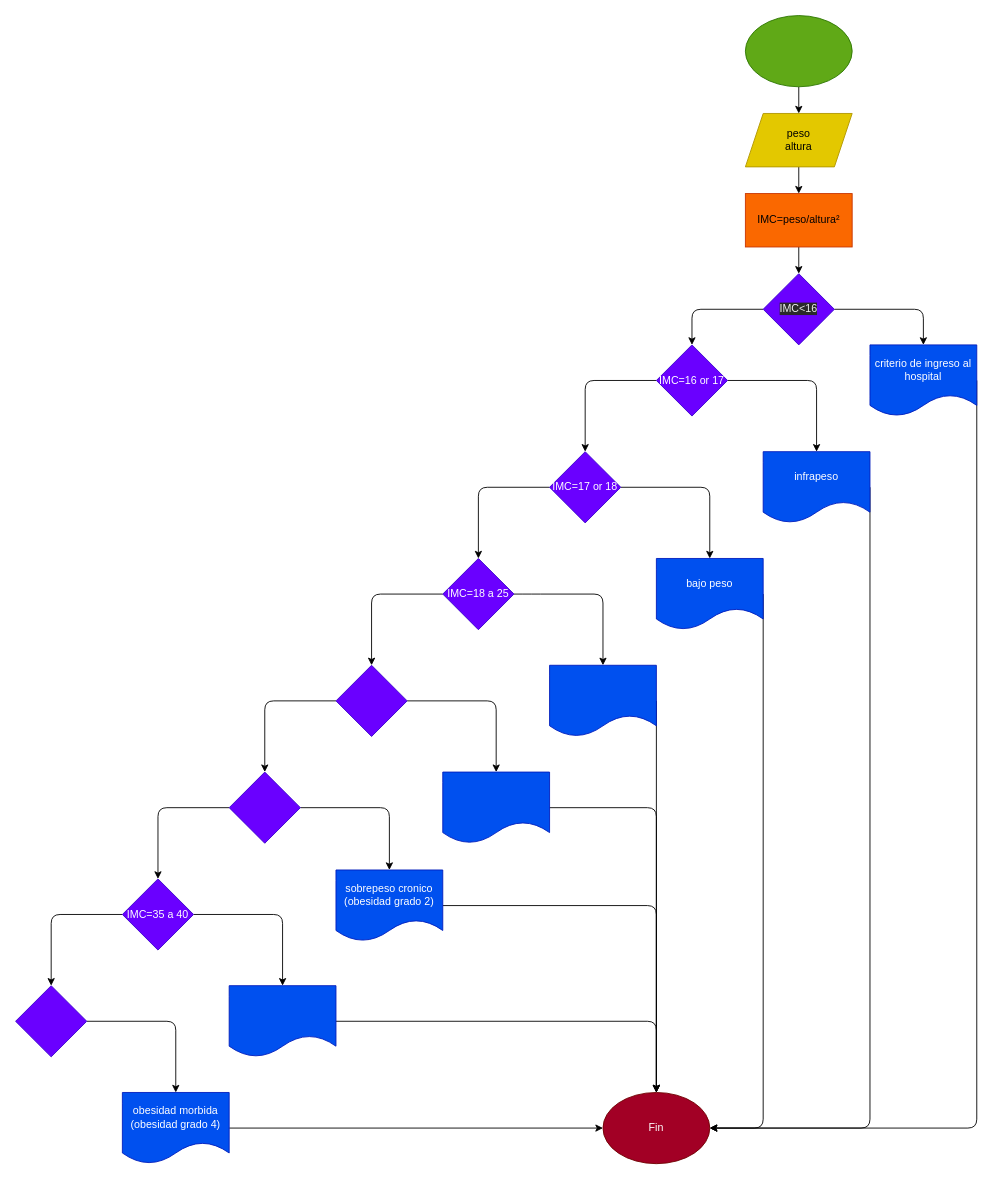
Image size: 999x1179. Some labels were removed from this diagram. Each missing label, with the box of its shape:
IMC=25 a 30: (335, 664, 407, 736)
IMC=30 a 35: (228, 771, 300, 843)
IMC=>40: (15, 985, 87, 1057)
Inicio.: (744, 15, 852, 87)
obesidad premorbida (obesidad grado 3): (228, 985, 336, 1057)
saludabe: (549, 664, 656, 736)
sobrepeso(obesidad grado 1): (442, 771, 550, 843)
